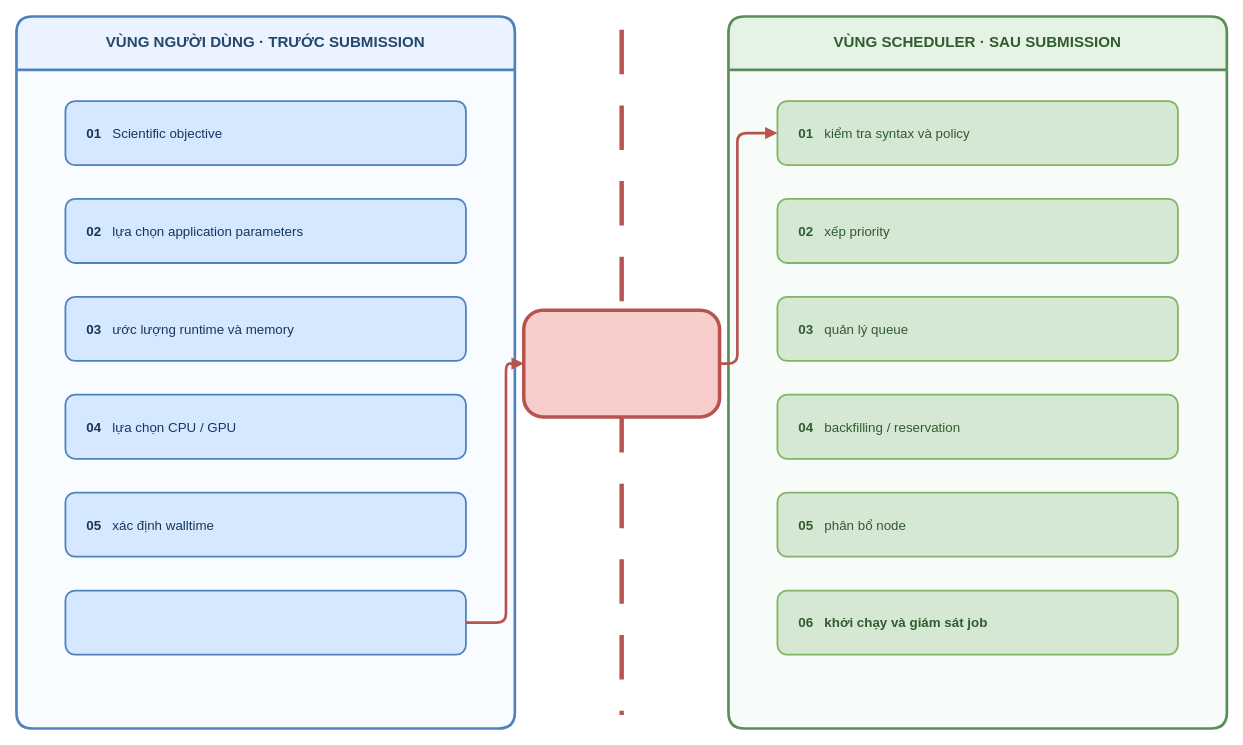
The diagram is 1243 pixels wide and 745 high, and some of its shapes have lost their labels. Each missing label, with the centre of its shape:
"06 tạo resource request" belongs at point (265, 622).
"Rigid resource request submitted to scheduler" belongs at point (621, 363).
